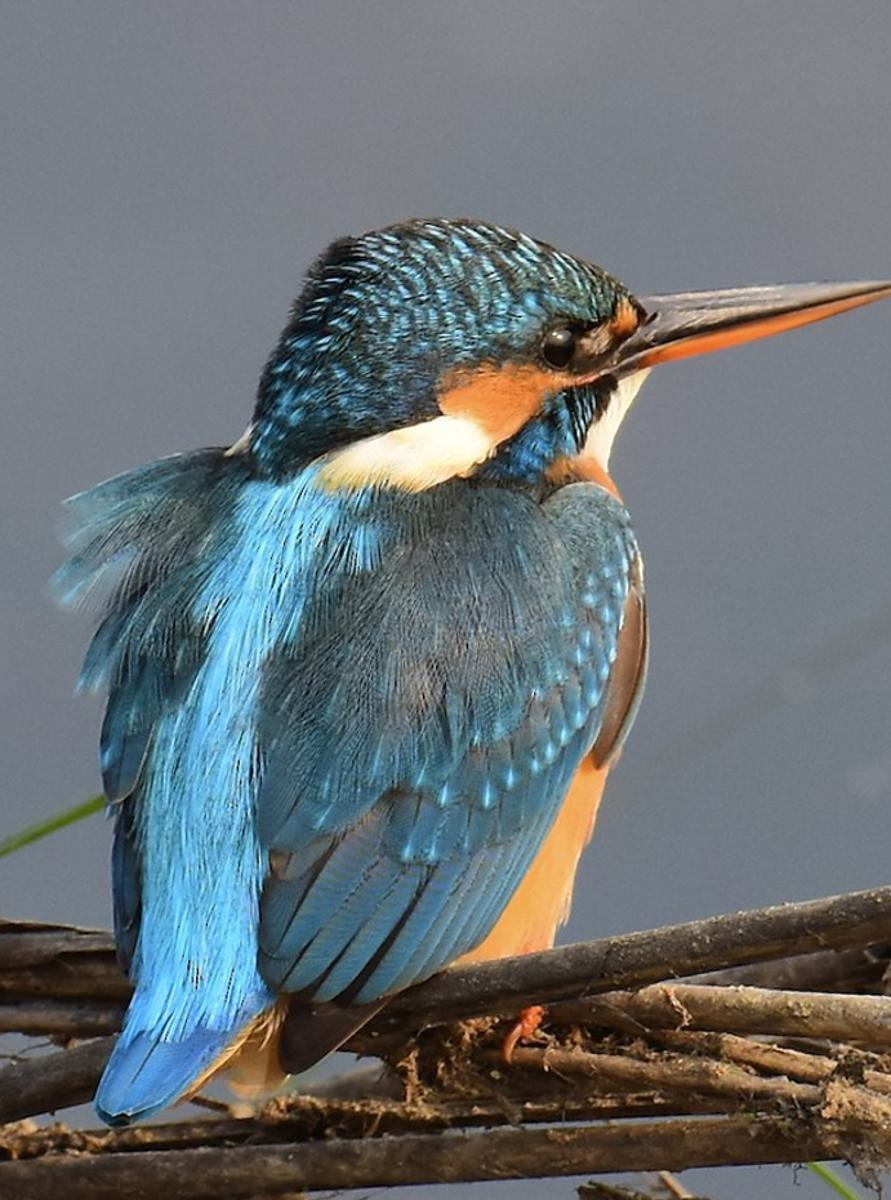kingfisher: (80, 201, 885, 1132)
